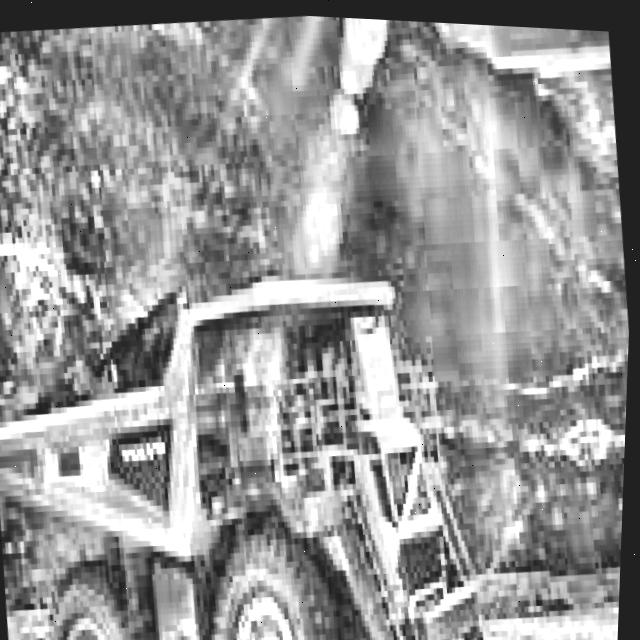dump_truck: (0, 232, 530, 640)
